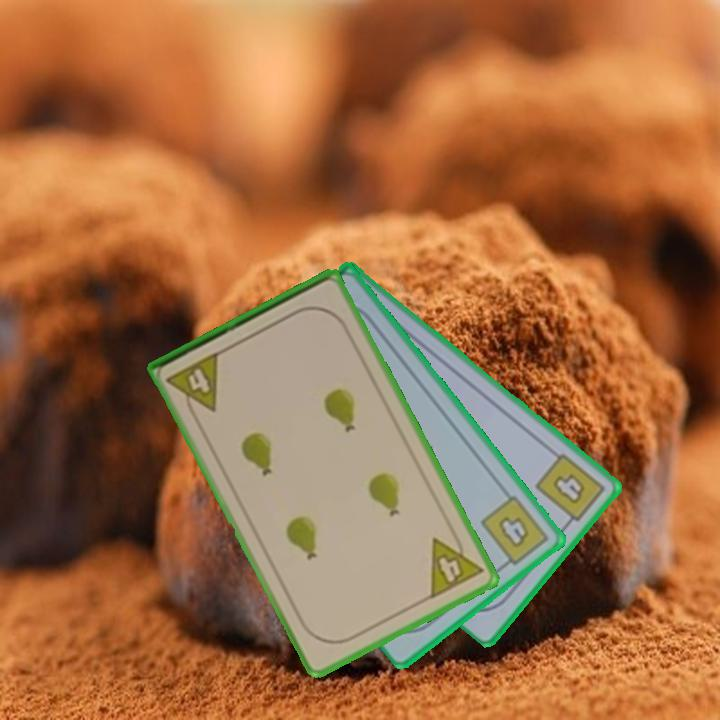4b: (532, 449, 608, 532), (477, 491, 552, 573)
4p: (426, 525, 486, 602), (163, 348, 223, 423)
